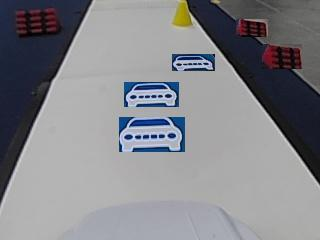cone: (172, 3, 192, 26)
